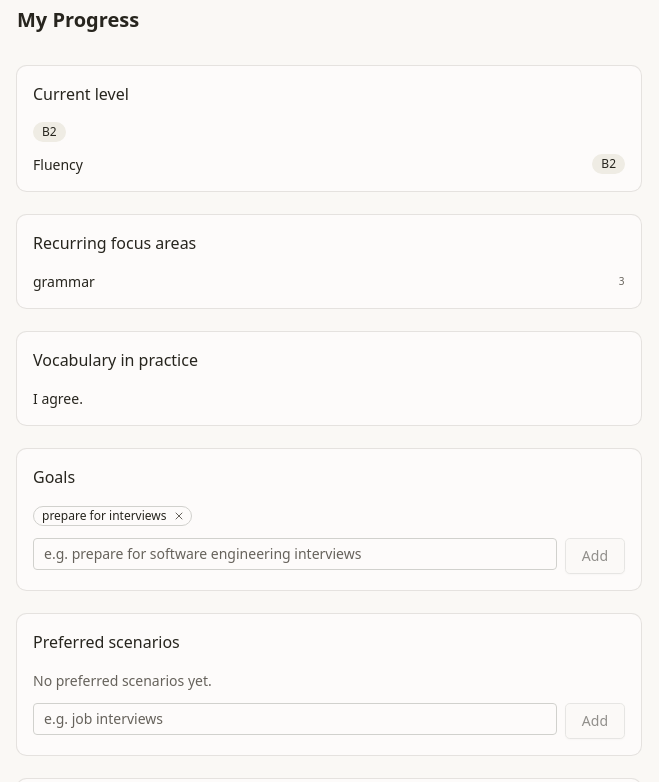
it: ProgressPage › removes a goal when its remove button is clicked
The width and height of the screenshot is (659, 782).
Check: the text "prepare for interviews" is shown, box top-left (33, 506), bottom-right (192, 526)
Click the button named "Remove prepare for interviews": (178, 516) top-left (170, 508), bottom-right (186, 524)
(page scrolled)
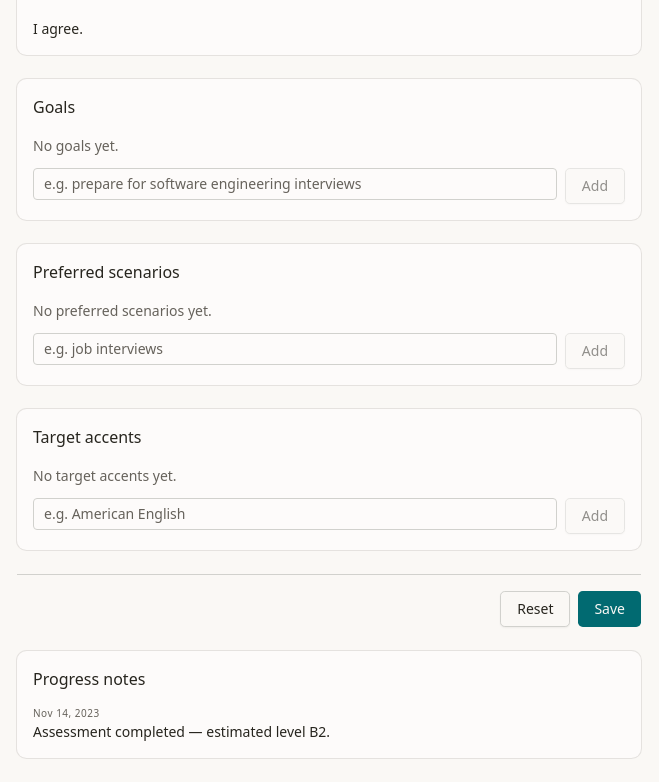
Check: the text "prepare for interviews" is gone
Check: the button "Save" is enabled, box top-left (578, 591), bottom-right (641, 627)
